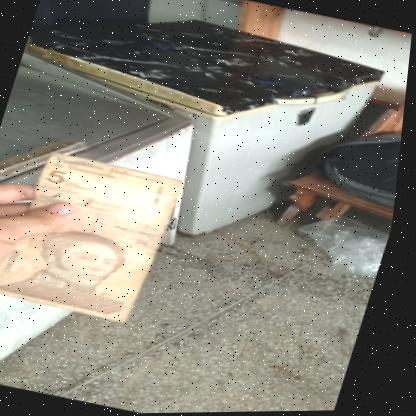five-front-vef: (0, 145, 191, 327)
